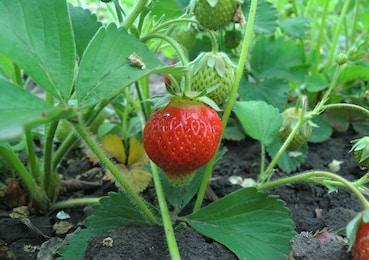Fresa: (137, 87, 233, 192)
